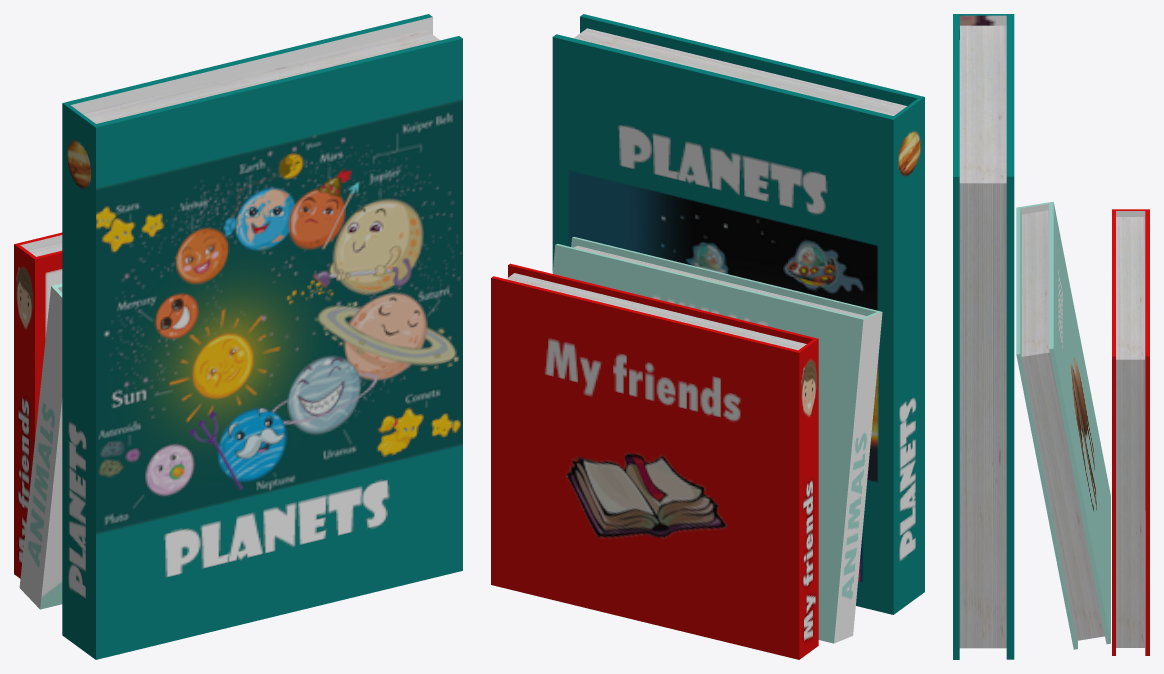
Rendered from Books 3.FBX.
3 views of the same model, side by side, from view 1: azimuth 30°, elevation 25°; view 2: azimuth 150°, elevation 25°; view 3: azimuth 270°, elevation 25° (orthographic). The views are drawn at different scales.
Visible parts, largest first — view 1: Book 1, Book 3, Book 2; view 2: Book 2, Book 1, Book 3; view 3: Book 1, Book 3, Book 2.
Part boxes in pixels (box(x1,y1,x2,y2)): Book 1: box(62, 14, 462, 659); Book 3: box(19, 283, 62, 609); Book 2: box(14, 232, 62, 578); Book 2: box(491, 263, 818, 659); Book 1: box(552, 14, 924, 614); Book 3: box(552, 237, 882, 643); Book 1: box(953, 14, 1014, 659); Book 3: box(1016, 201, 1110, 649); Book 2: box(1112, 209, 1149, 655).
Size of the model in its own units: 21.39 by 29.71 by 10.95.
